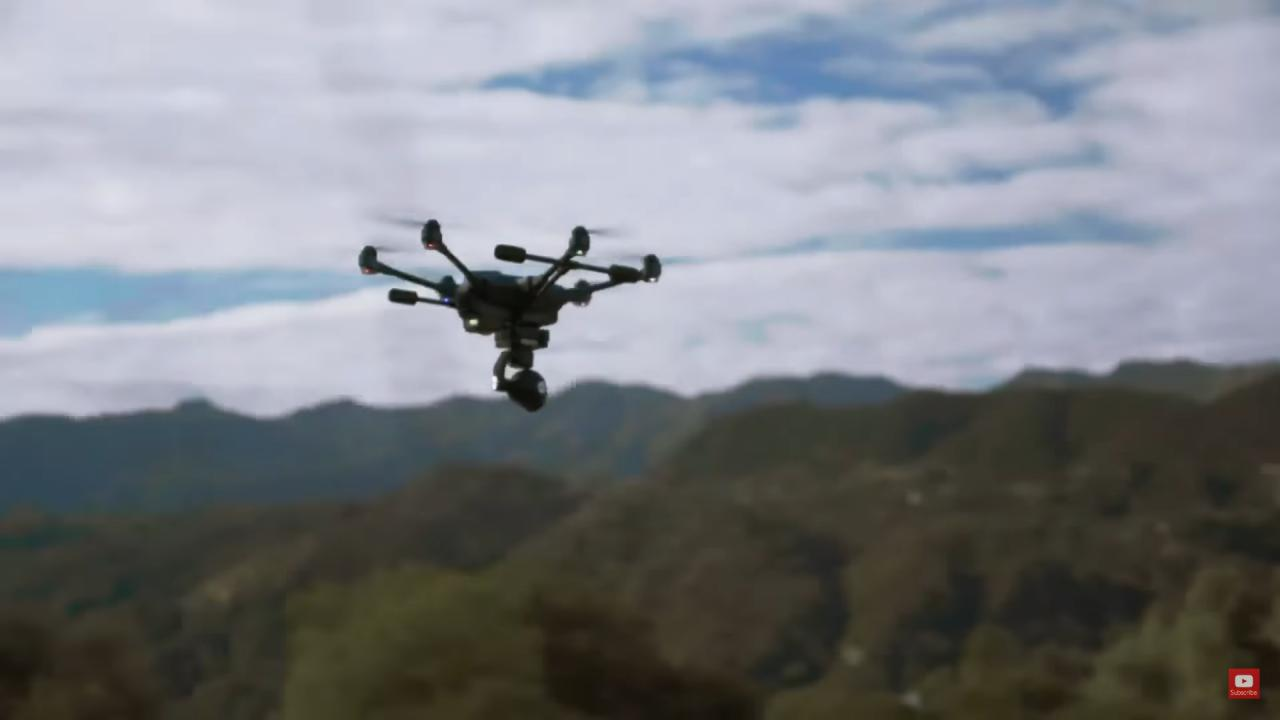Drone: (319, 173, 712, 426)
